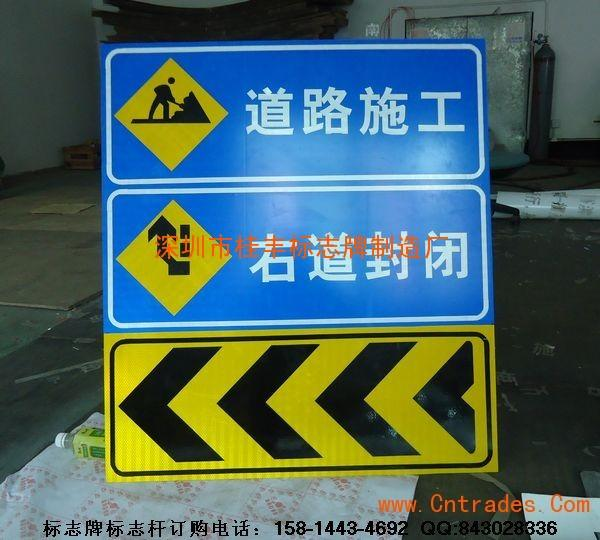sign: (102, 47, 503, 474)
